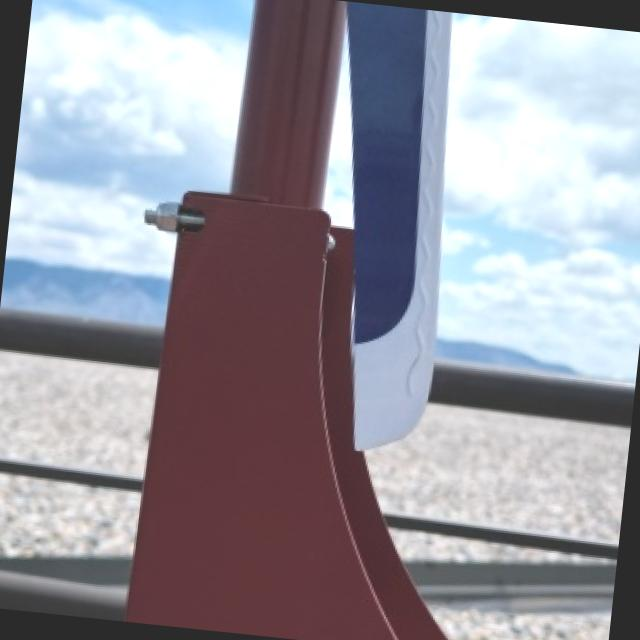healthy: (130, 0, 446, 640)
